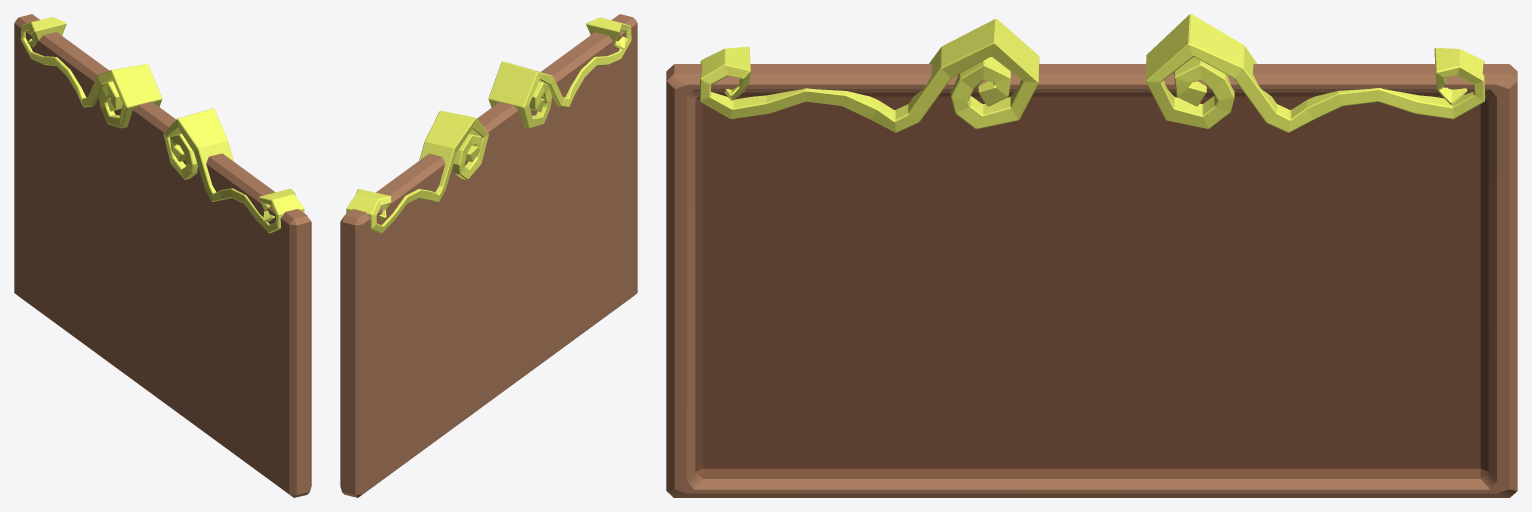
Rendered from NoticeBoard.fbx.
3 views of the same model, side by side, from view 1: azimuth 30°, elevation 25°; view 2: azimuth 150°, elevation 25°; view 3: azimuth 270°, elevation 25° (orthographic). The views are drawn at different scales.
Visible parts, largest first — view 1: NoticeBoard; view 2: NoticeBoard; view 3: NoticeBoard.
Boxes of the visible parts, left/top/right/bottom form: NoticeBoard: left=14, top=14, right=311, bottom=497; NoticeBoard: left=340, top=14, right=637, bottom=497; NoticeBoard: left=666, top=14, right=1517, bottom=497.
Size of the model in its own units: 45.43 by 315 by 522.
